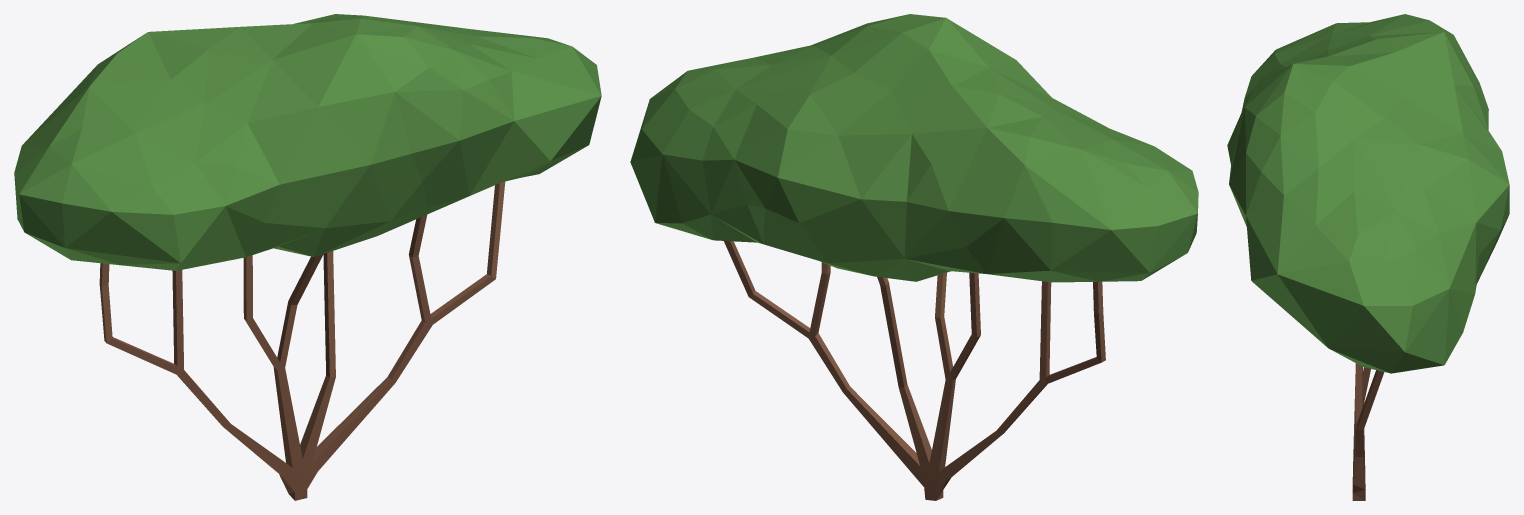
File: Plant_03.fbx
3 renders of one model, left to right at view 1: azimuth 30°, elevation 25°; view 2: azimuth 150°, elevation 25°; view 3: azimuth 270°, elevation 25°, orthographic. The views are drawn at different scales.
Visible parts, largest first — view 1: Plant_03_LOD0; view 2: Plant_03_LOD0; view 3: Plant_03_LOD0.
Boxes of the visible parts, x1,y1,x2,y2 form: Plant_03_LOD0: (14, 14, 601, 500); Plant_03_LOD0: (630, 14, 1198, 500); Plant_03_LOD0: (1227, 14, 1509, 500).
Size of what is drawn, in the model's own units: 182 by 144 by 82.94.
